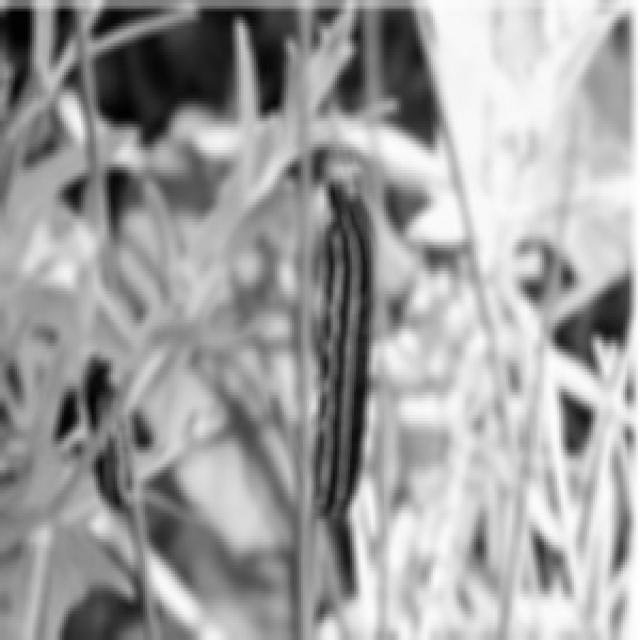army worm: (306, 145, 374, 526), (77, 349, 134, 502)
